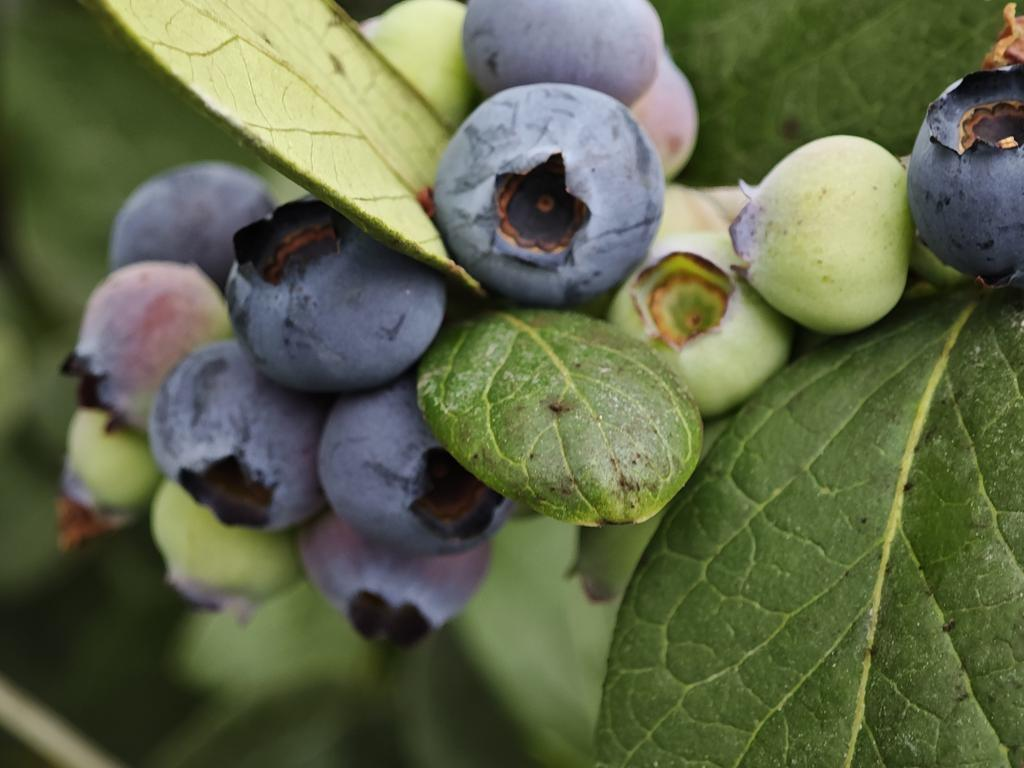RipeBlueBerry: (425, 77, 669, 314), (223, 189, 450, 398)
UnripeBlueBerry: (730, 132, 915, 338)
